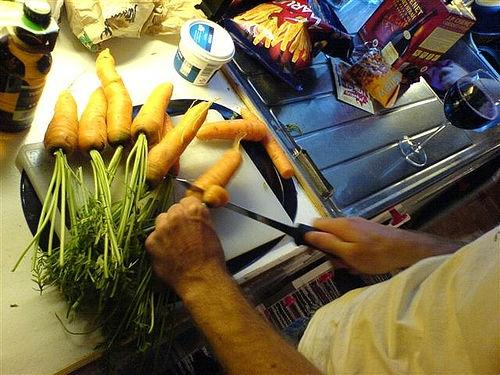carrot: (116, 82, 174, 262), (144, 98, 220, 190), (96, 48, 132, 188), (185, 132, 246, 202), (44, 68, 90, 158), (241, 107, 295, 180), (78, 86, 108, 158), (196, 120, 266, 142), (162, 112, 181, 179), (201, 184, 230, 209)
